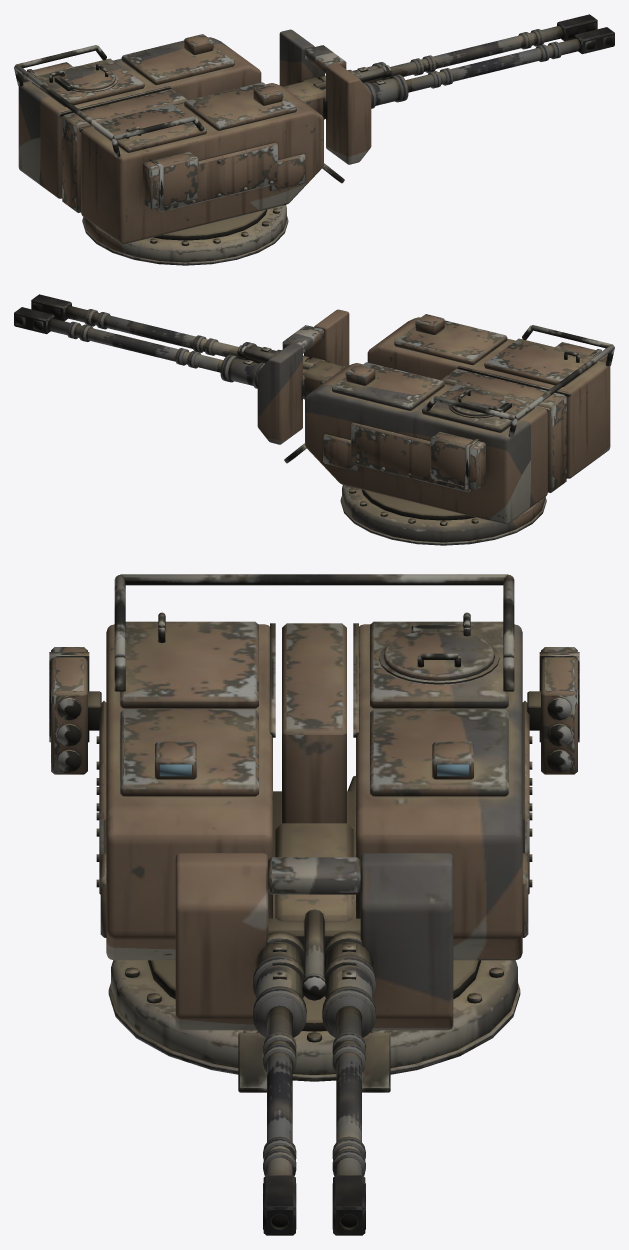
The model's file is turret_kit_t2_rock.glb.
The picture shows the model from 3 angles, top to bottom: view 1: azimuth 30°, elevation 25°; view 2: azimuth 150°, elevation 25°; view 3: azimuth 270°, elevation 25°; orthographic projection. The views are drawn at different scales.
Visible parts, largest first — view 1: turret_twin_t2, guns, pods; view 2: turret_twin_t2, guns, pods; view 3: turret_twin_t2, guns, pods.
Boxes of the visible parts, x1,y1,x2,y2 form: turret_twin_t2: (14,29,371,265); guns: (283,14,614,119); pods: (21,62,198,209); turret_twin_t2: (257,309,614,545); guns: (14,294,345,399); pods: (430,342,607,489); turret_twin_t2: (96,574,532,1092); guns: (253,823,375,1235); pods: (49,647,579,774).
Bounding box in the file's own units: 2.7 × 0.722 × 1.15.
4 materials, 3 textured.
